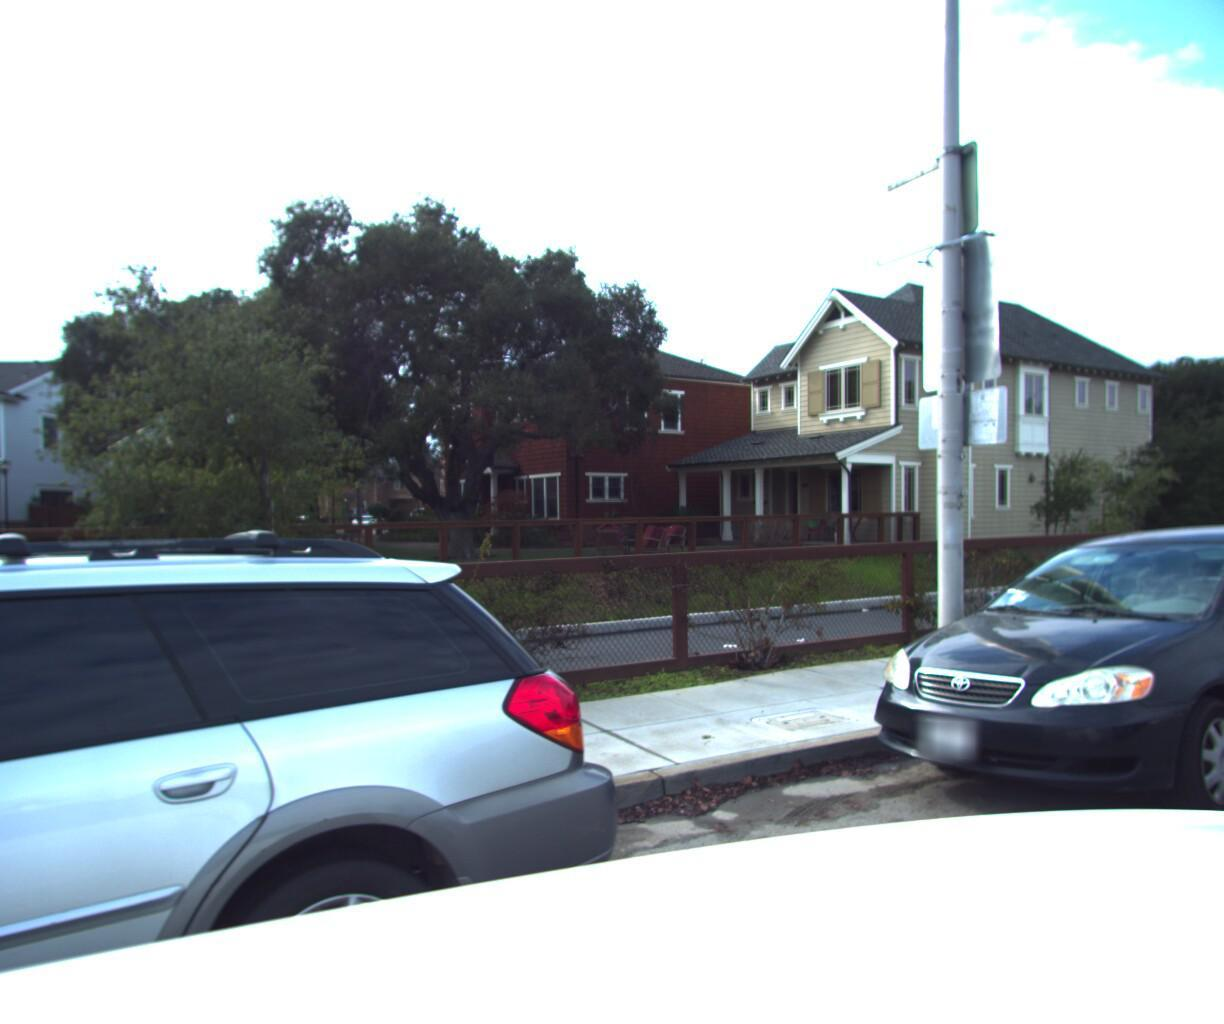car: (0, 514, 701, 1024), (832, 515, 1224, 901)
